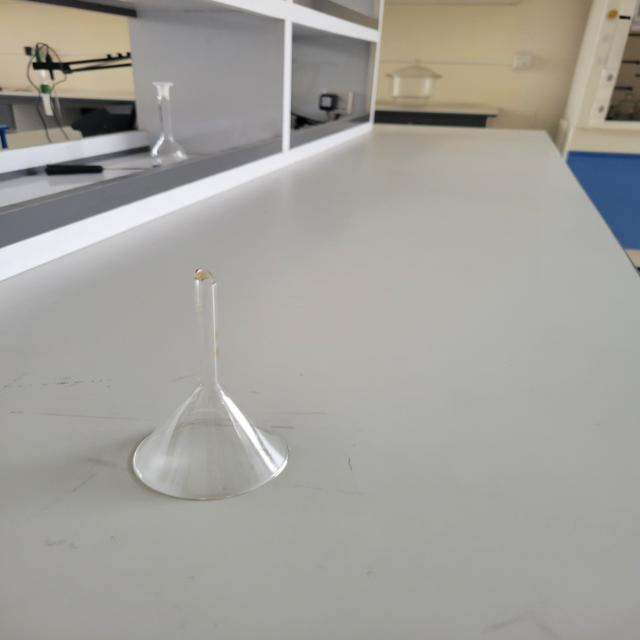Funnel: (91, 248, 336, 542)
